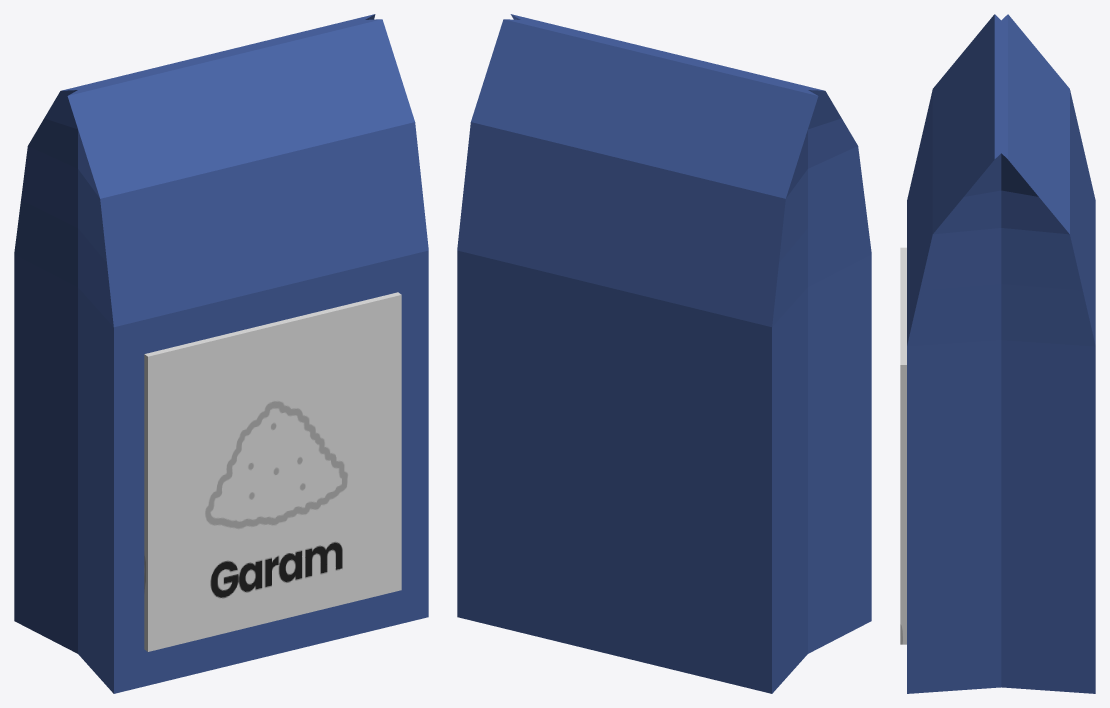
The model's file is Garam.fbx.
The picture shows the model from 3 angles, left to right: view 1: azimuth 30°, elevation 25°; view 2: azimuth 150°, elevation 25°; view 3: azimuth 270°, elevation 25°; orthographic projection. The views are drawn at different scales.
Visible parts, largest first — view 1: Cube.006, Cube.007; view 2: Cube.006; view 3: Cube.006, Cube.007.
Part boxes in pixels (x1,y1,x2,y2): Cube.006: [14, 14, 428, 693]; Cube.007: [144, 292, 401, 651]; Cube.006: [457, 14, 871, 693]; Cube.006: [907, 14, 1095, 693]; Cube.007: [900, 247, 906, 644].
Size of the model in its own units: 24.26 by 41.52 by 13.77.
Materials: 2 (1 with a texture image).
